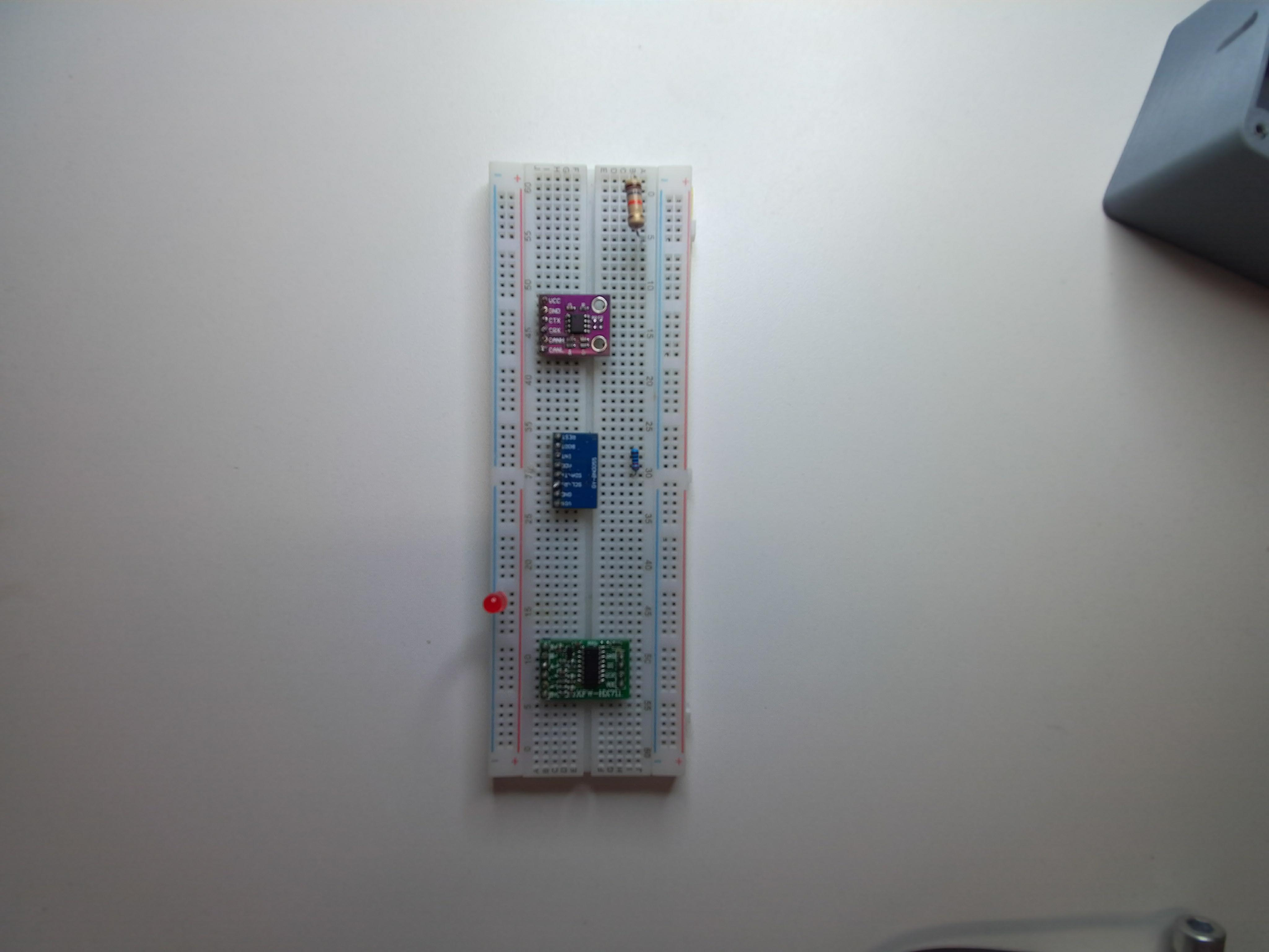base: (484, 159, 697, 795)
blue-board: (551, 431, 598, 512)
green-board: (535, 634, 633, 705)
purple-board: (537, 293, 612, 363)
red-led: (482, 594, 509, 613)
resistor-big: (624, 175, 648, 232)
resistor-small: (629, 444, 642, 472)
